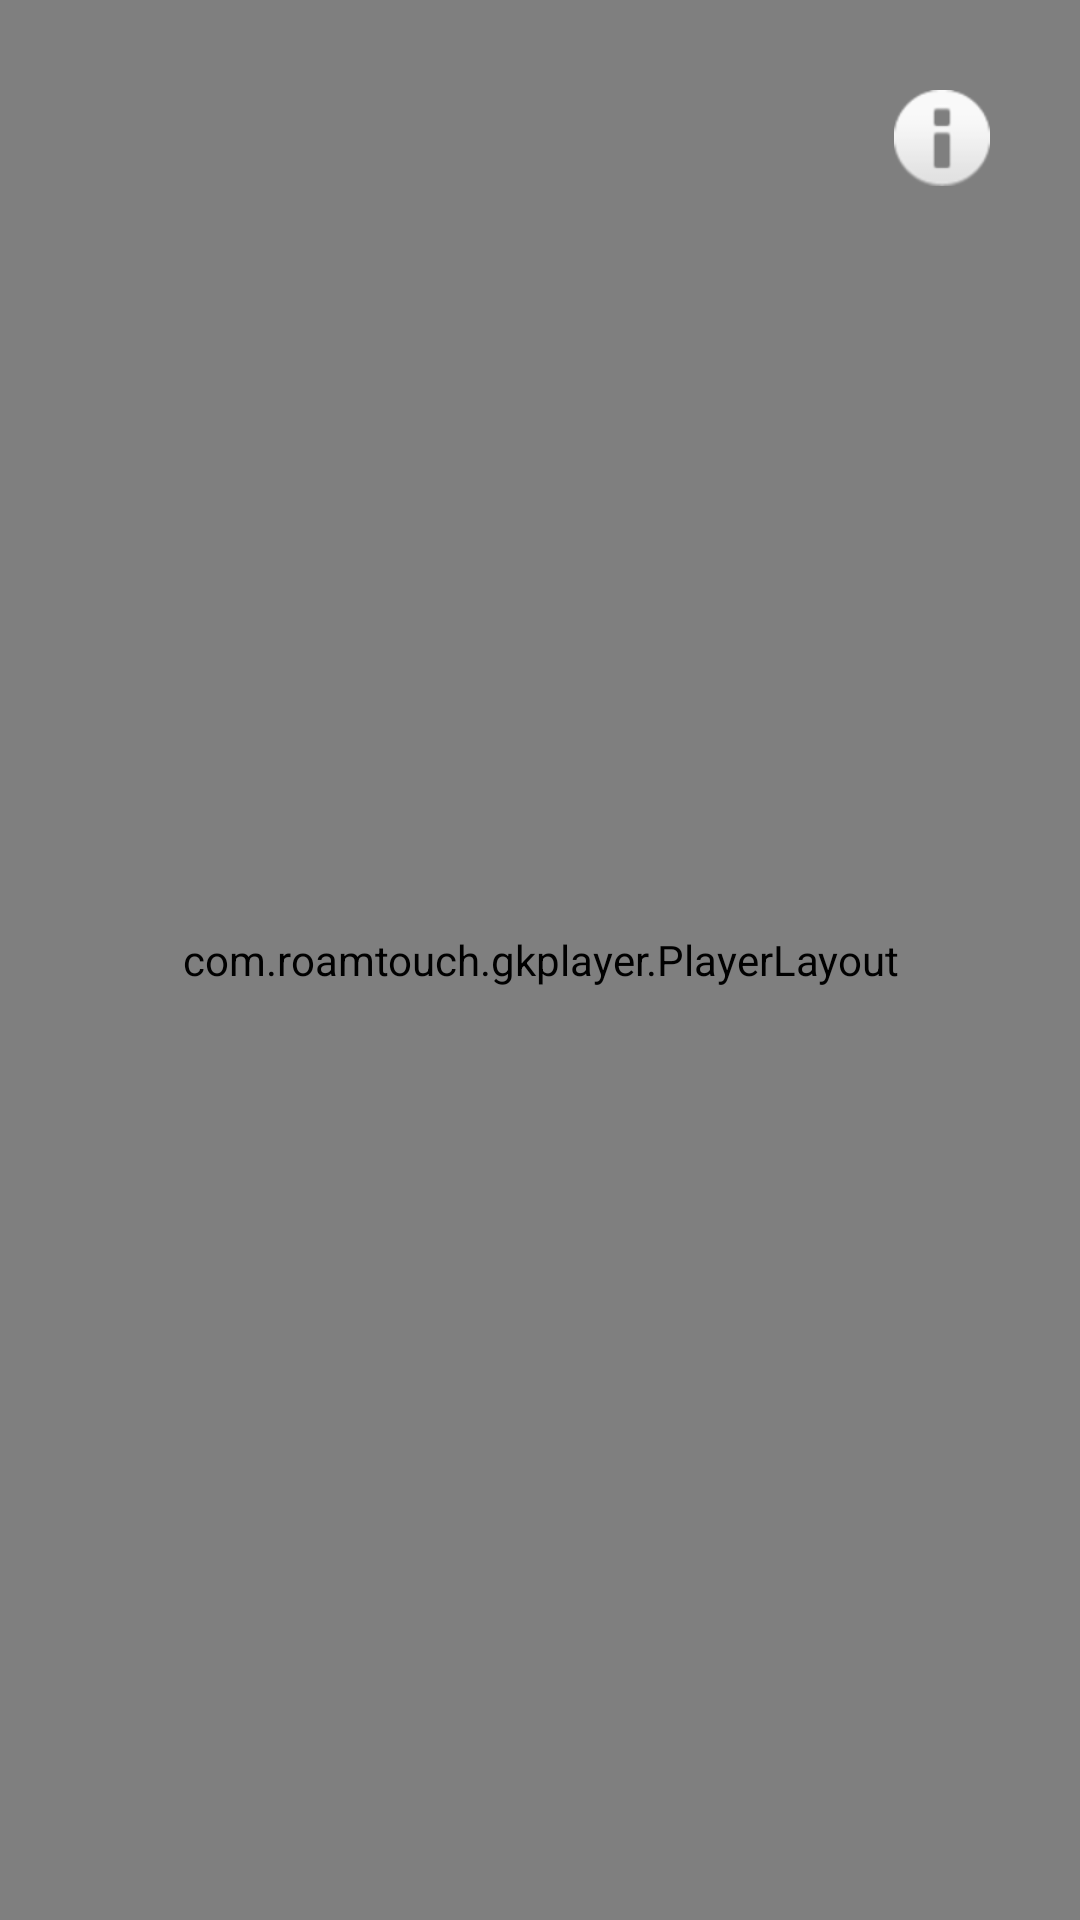

Where icons sit on this 1080 × 1920 app screen, as (x1, y1, x2, y2):
info: (894, 90, 990, 186)
